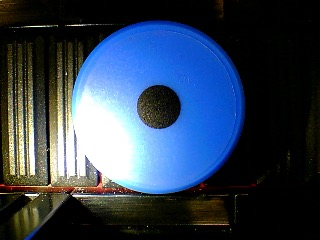BOHO: (71, 20, 245, 194)
